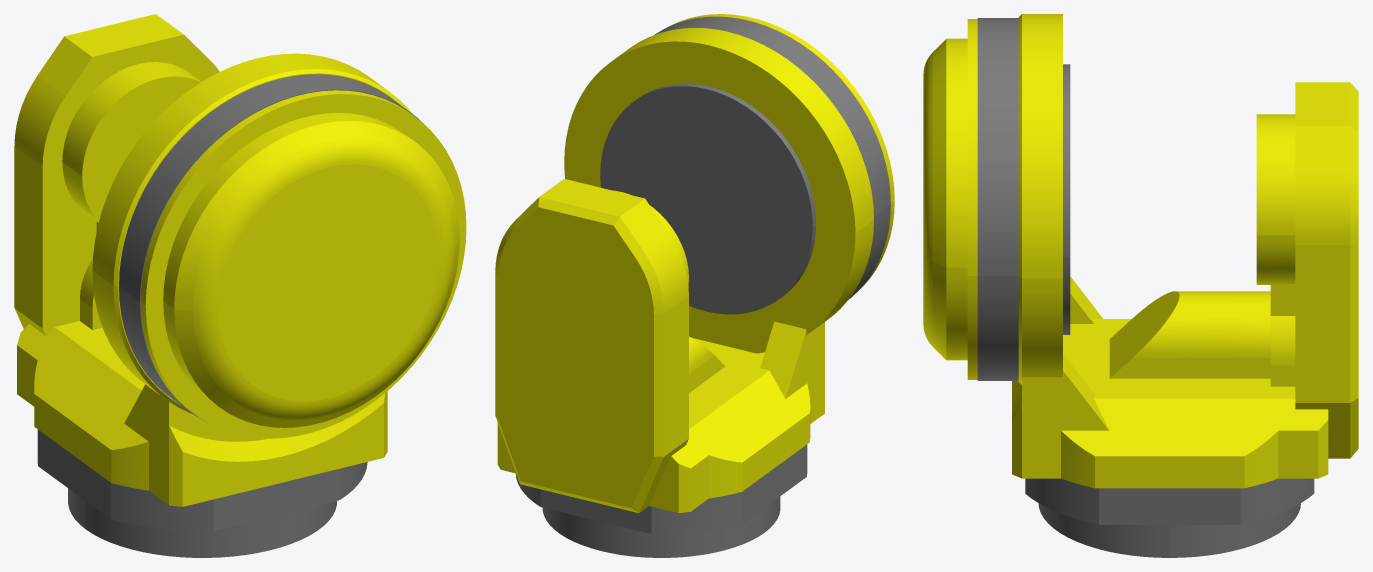
3 renders of one model, left to right at view 1: azimuth 30°, elevation 25°; view 2: azimuth 150°, elevation 25°; view 3: azimuth 270°, elevation 25°, orthographic. The views are drawn at different scales.
Parts seen in each view (by area): view 1: Mesh_0; view 2: Mesh_0; view 3: Mesh_0.
Part boxes in pixels (x1=…): Mesh_0: x1=14, y1=14, x2=466, y2=557; Mesh_0: x1=495, y1=14, x2=894, y2=557; Mesh_0: x1=923, y1=14, x2=1358, y2=557.
Size of the model in its own units: 0.226 by 0.265 by 0.3165.
